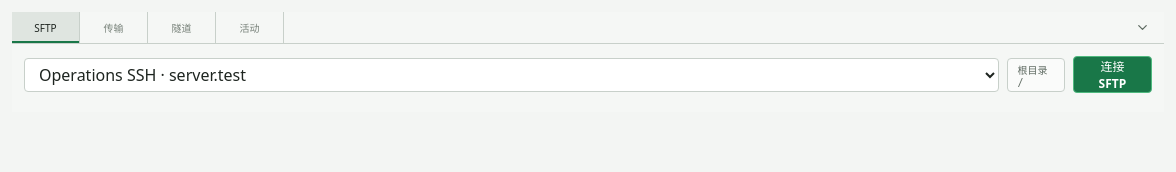
Test: M3 operations workspace › opens a rooted SFTP browser and starts an explicit tunnel
This screenshot has width=1176, height=172.
Click the button "连接 SFTP". click: (1112, 74)
box: [1073,56,1152,93]
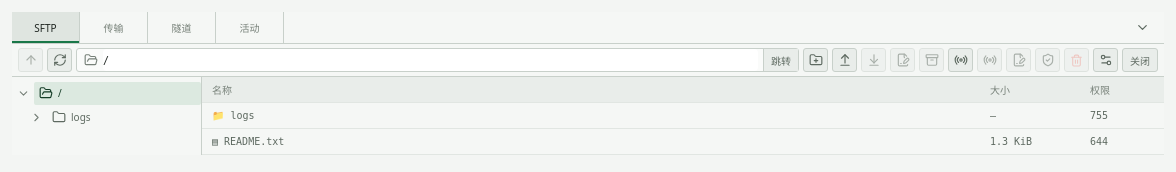
Expected: the text "▤ README.txt" is shown, [212,136,284,147]
Click the button "隧道". click: (182, 28)
box: [148,12,216,43]
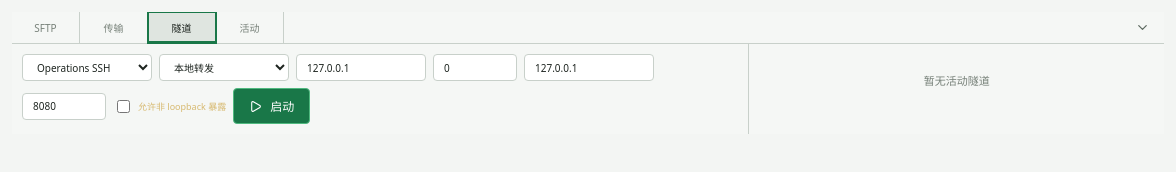
Click the button "启动". click: (272, 106)
box: [233,88,310,124]
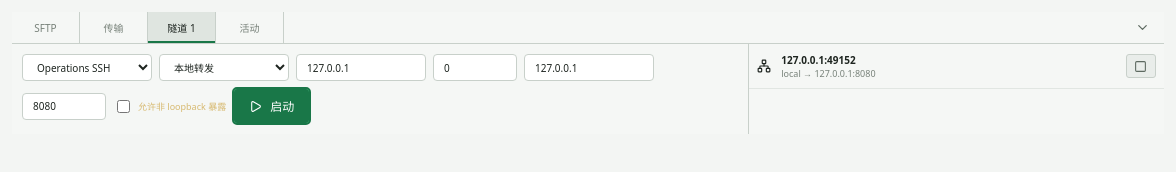
Expected: the text "127.0.0.1:49152" is shown, [781,52,856,66]
